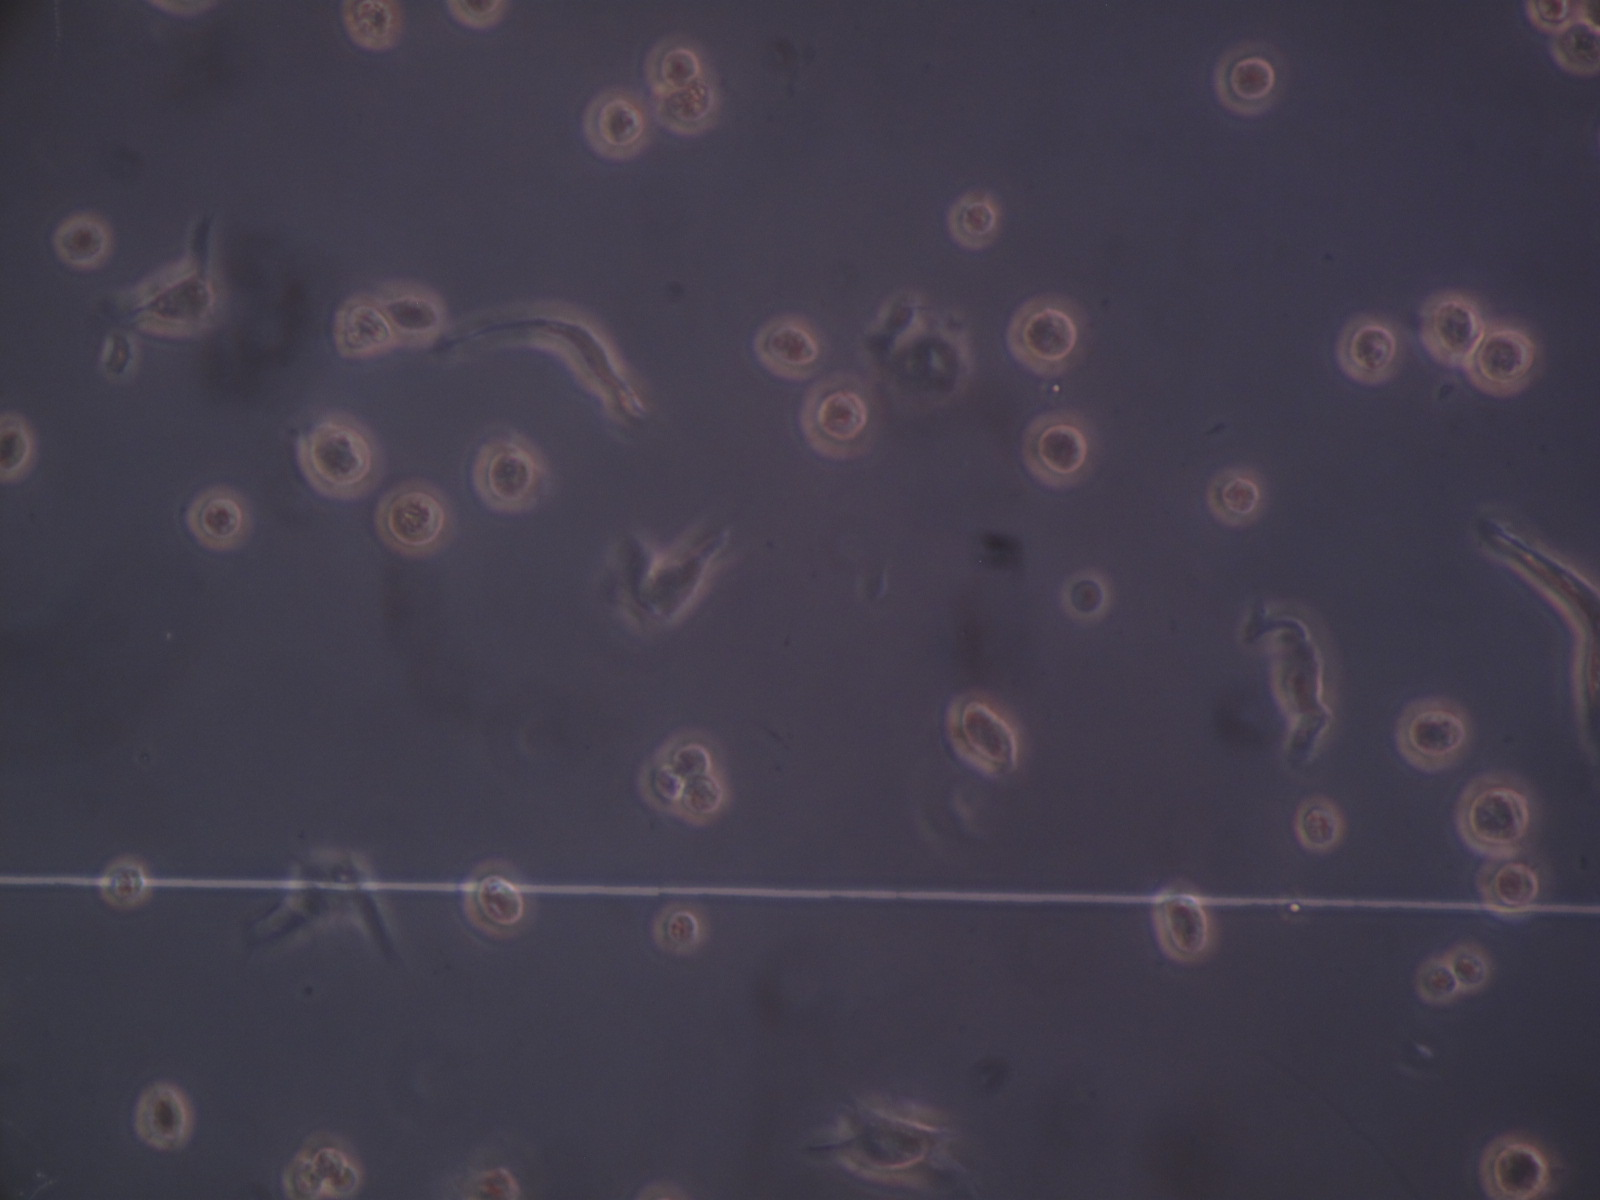hemo: (838, 1095, 957, 1192), (294, 405, 379, 500), (123, 261, 226, 339), (1456, 771, 1543, 858), (1005, 291, 1092, 377), (800, 368, 879, 461), (946, 689, 1026, 782), (1461, 314, 1543, 398), (370, 476, 454, 558), (1019, 406, 1097, 489), (1396, 692, 1474, 771), (462, 860, 535, 942), (1211, 38, 1285, 117), (472, 430, 543, 513), (1150, 876, 1216, 963), (1478, 1129, 1558, 1200), (581, 84, 649, 163), (1419, 284, 1483, 366), (373, 279, 443, 350), (1475, 848, 1541, 925), (185, 482, 254, 551), (753, 314, 823, 381), (1338, 310, 1395, 386), (334, 295, 396, 361), (1208, 465, 1267, 529), (131, 1084, 190, 1147), (446, 1158, 535, 1200), (54, 216, 113, 272), (643, 35, 704, 89), (653, 84, 719, 134), (1547, 16, 1600, 77), (949, 189, 1002, 250), (651, 900, 707, 957), (635, 756, 687, 816), (656, 727, 716, 779), (1295, 793, 1346, 853), (340, 1, 401, 50), (1, 408, 39, 485), (100, 857, 152, 910), (1060, 566, 1110, 621), (679, 775, 729, 828), (1416, 955, 1461, 1007), (1448, 940, 1492, 993), (281, 1157, 323, 1200), (307, 1136, 346, 1181), (1523, 1, 1575, 34), (325, 1158, 364, 1199), (447, 1, 506, 28)
